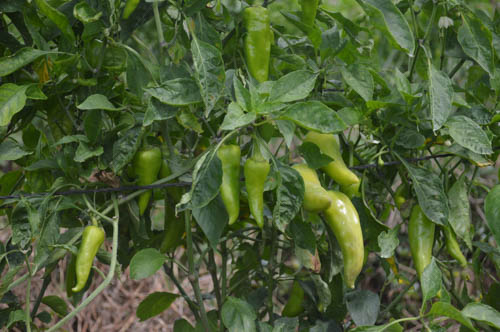ChiliPepper: (325, 191, 362, 288), (211, 147, 242, 227), (309, 130, 356, 182), (238, 7, 271, 78), (70, 224, 104, 292), (408, 203, 436, 277), (289, 163, 328, 211), (135, 148, 162, 217), (244, 160, 269, 226)
